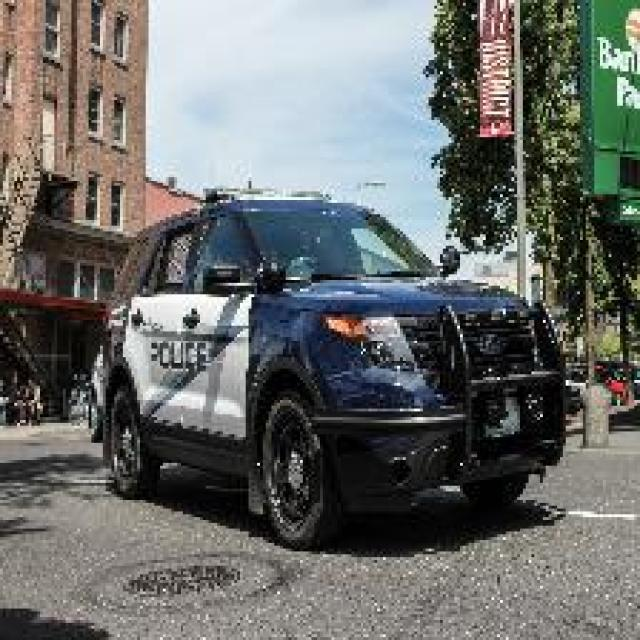fire_truck: (96, 188, 566, 544)
